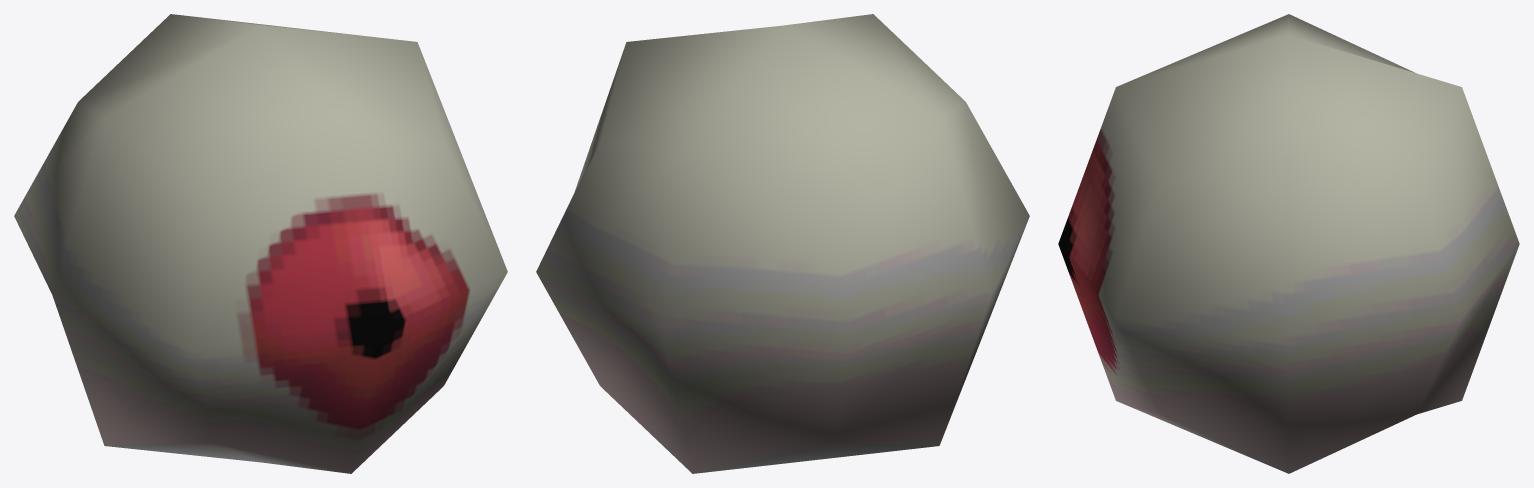
Rendered from OjoVigilante.fbx.
The picture shows the model from 3 angles, left to right: view 1: azimuth 30°, elevation 25°; view 2: azimuth 150°, elevation 25°; view 3: azimuth 270°, elevation 25°; orthographic projection. The views are drawn at different scales.
Visible parts, largest first — view 1: OjoVigilante; view 2: OjoVigilante; view 3: OjoVigilante.
Part boxes in pixels (x1=…): OjoVigilante: x1=14, y1=14, x2=507, y2=473; OjoVigilante: x1=536, y1=14, x2=1029, y2=473; OjoVigilante: x1=1058, y1=14, x2=1519, y2=473.
Bounding box in the file's own units: 10.79 × 10.79 × 10.79.
